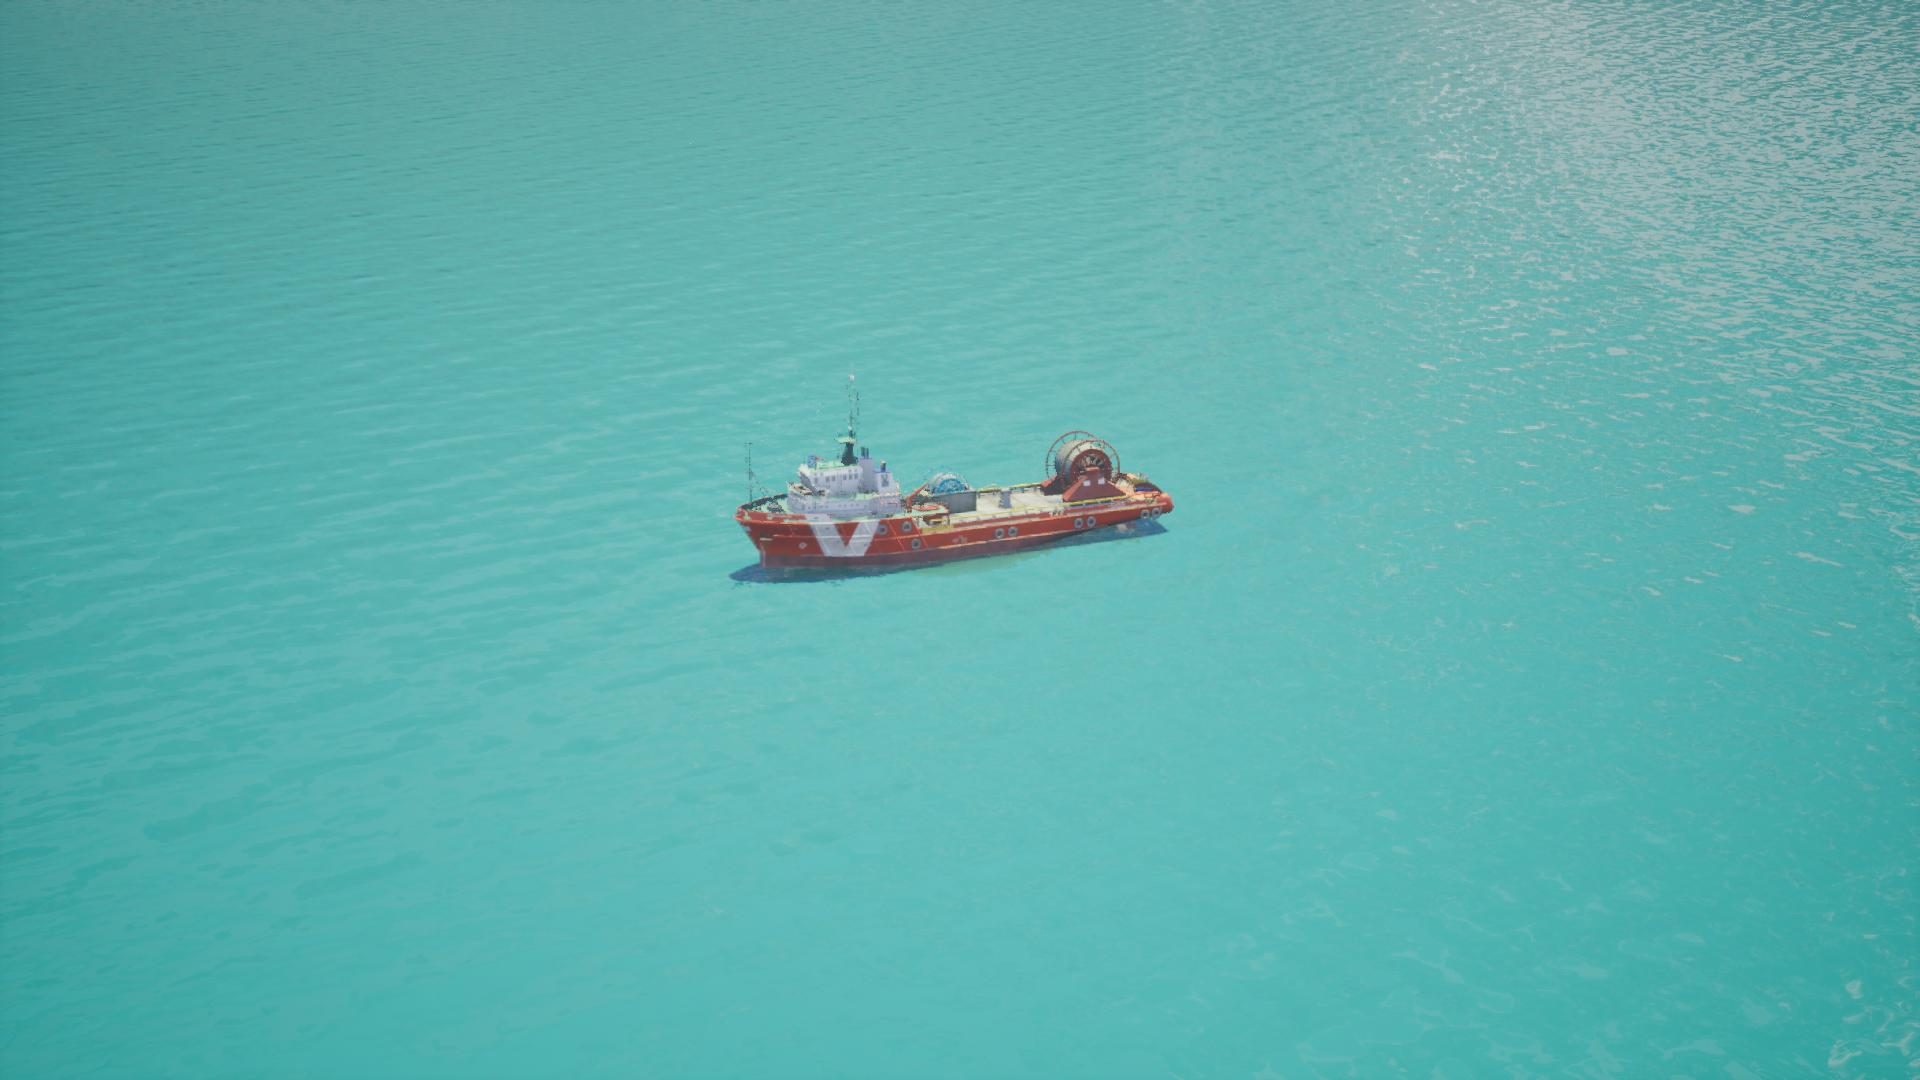Tug Boat: (734, 409, 1168, 583)
